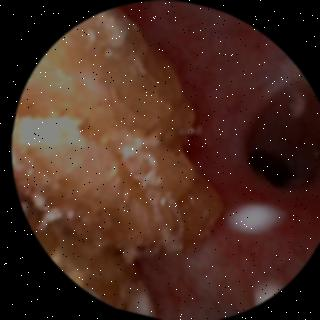stone: (11, 11, 217, 318)
tissue: (132, 7, 320, 318)
